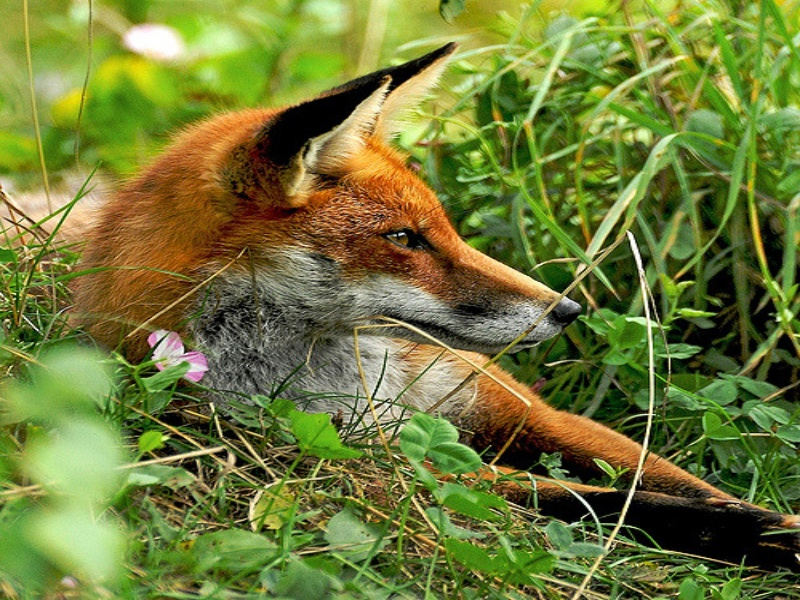fox: (54, 44, 800, 571)
